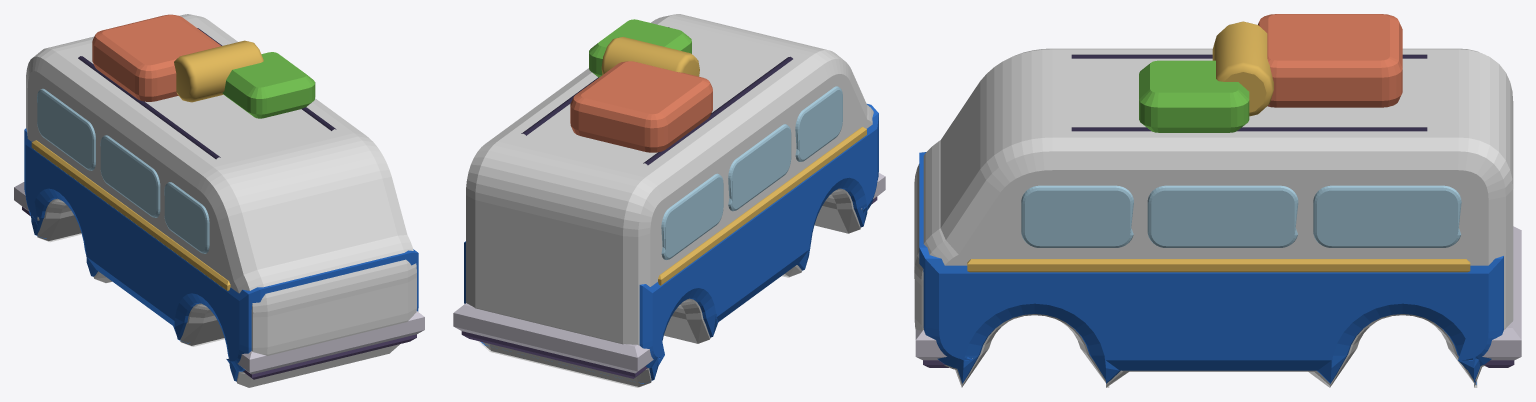
File: carro_candongueiro.glb
3 renders of one model, left to right at view 1: azimuth 30°, elevation 25°; view 2: azimuth 150°, elevation 25°; view 3: azimuth 270°, elevation 25°, orthographic. The views are drawn at different scales.
Visible parts, largest first — view 1: carro_candongueiro_corpo; view 2: carro_candongueiro_corpo; view 3: carro_candongueiro_corpo.
Boxes of the visible parts, box(x1,y1,x2,y2) form: carro_candongueiro_corpo: box(14, 14, 424, 387); carro_candongueiro_corpo: box(453, 14, 885, 387); carro_candongueiro_corpo: box(914, 14, 1521, 387).
Bounding box in the file's own units: 2.18 × 2.76 × 4.95.
